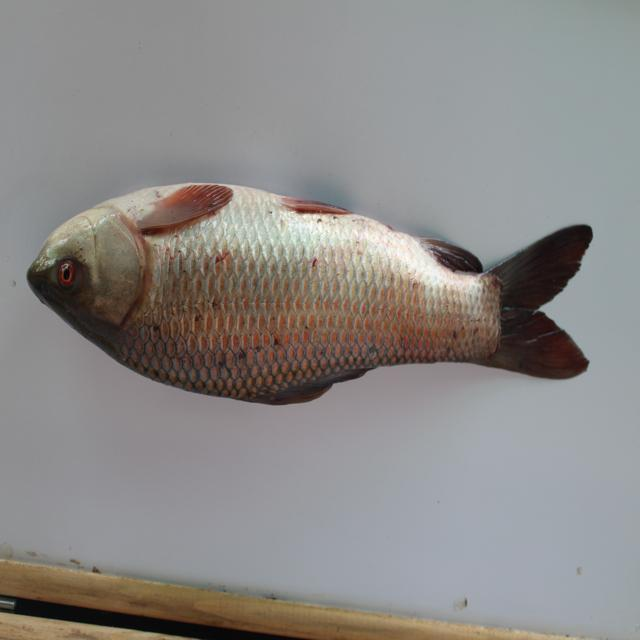Rohu: (30, 168, 602, 422)
